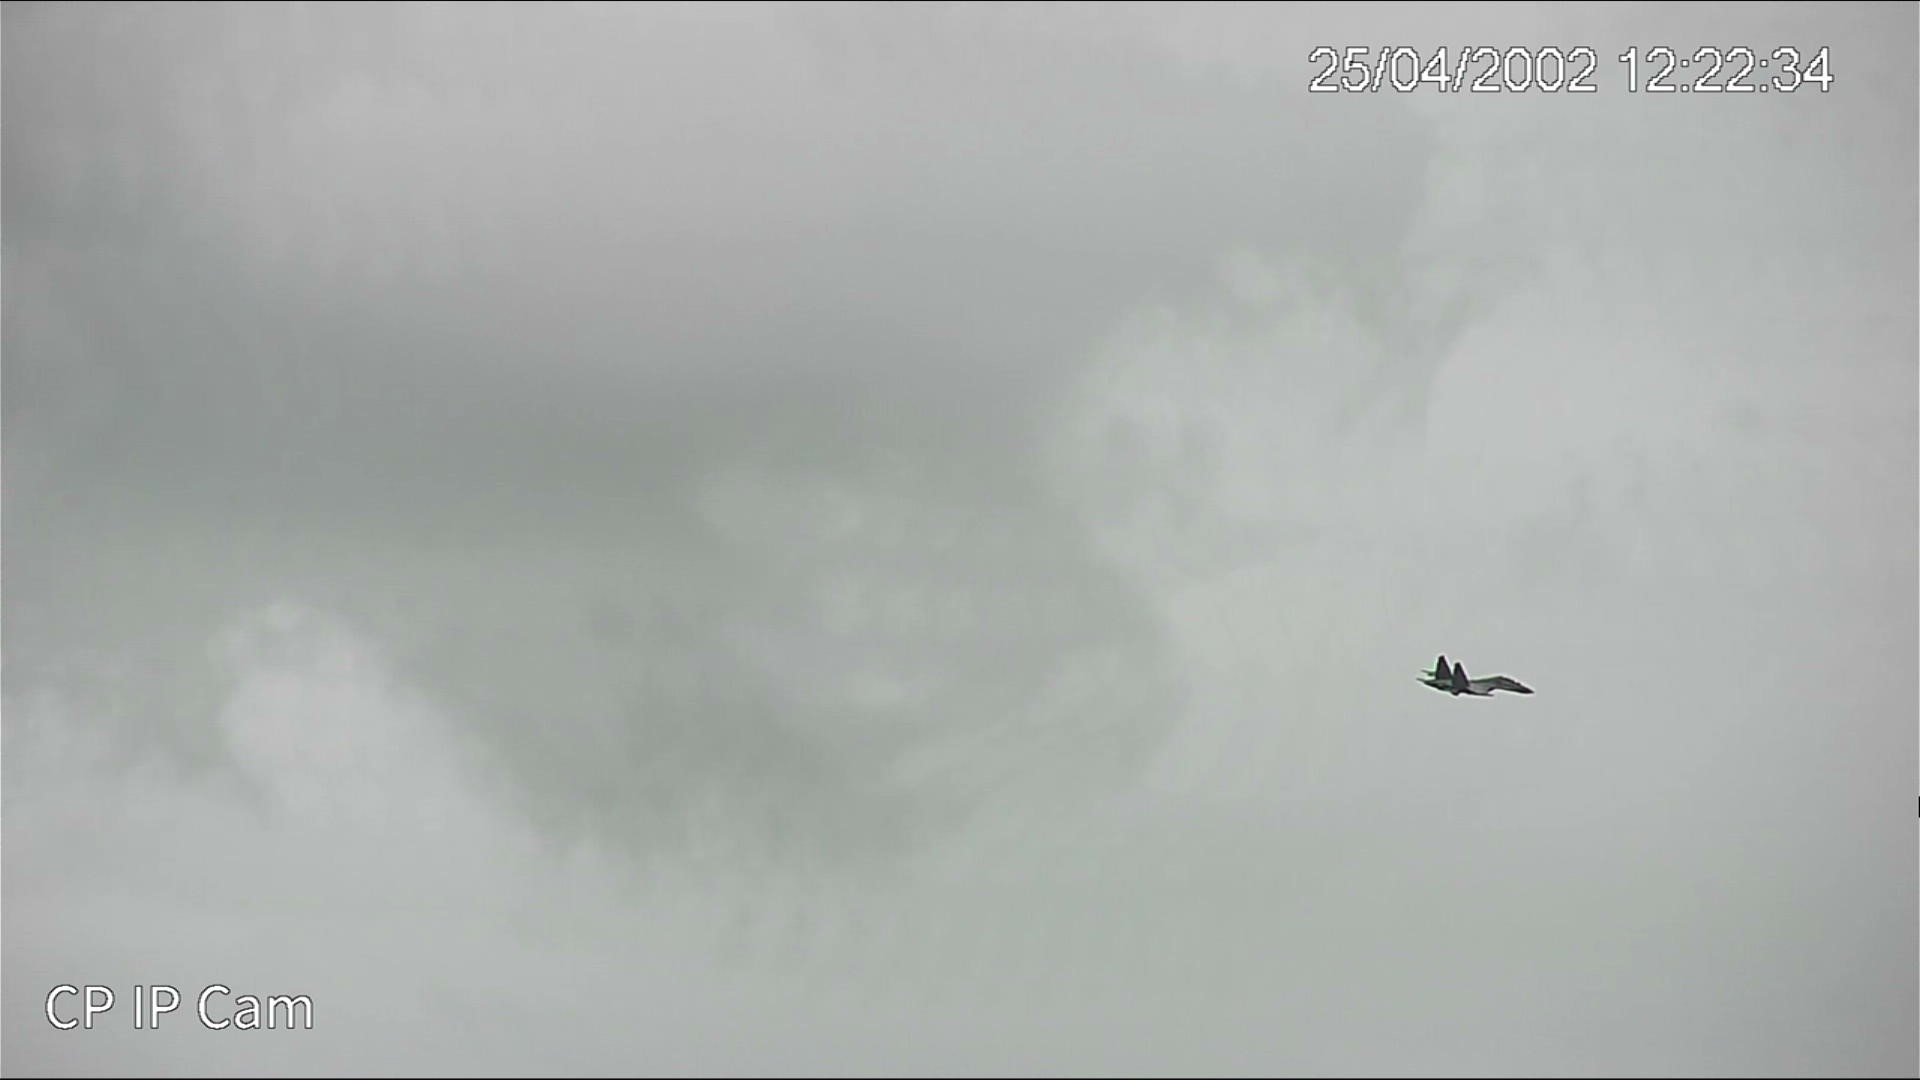SU_30: (1418, 654, 1536, 705)
